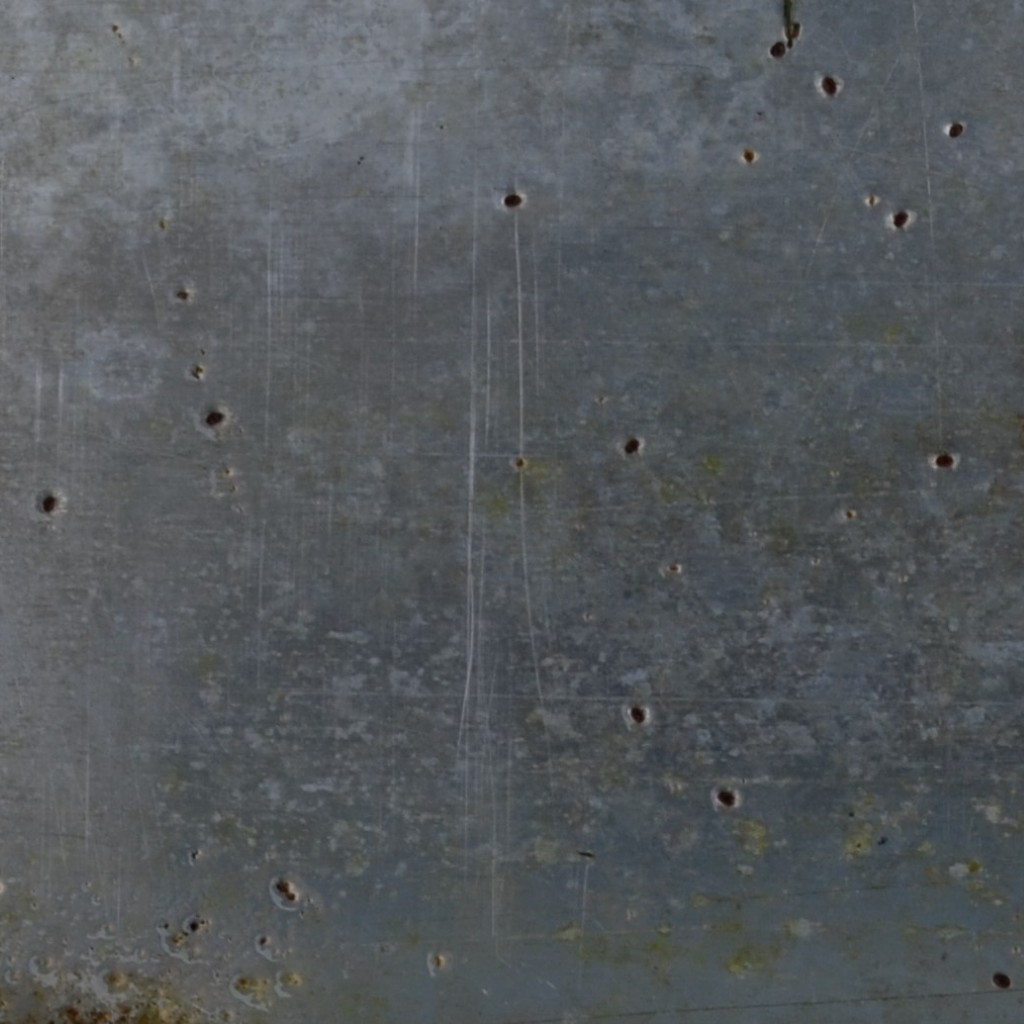varroa: (928, 445, 958, 471), (616, 432, 645, 456), (818, 70, 842, 98), (201, 407, 226, 431), (36, 492, 59, 517), (499, 187, 525, 209), (991, 966, 1012, 991), (628, 702, 647, 729), (890, 206, 912, 228), (769, 36, 788, 61), (947, 117, 967, 140), (716, 787, 738, 807)
